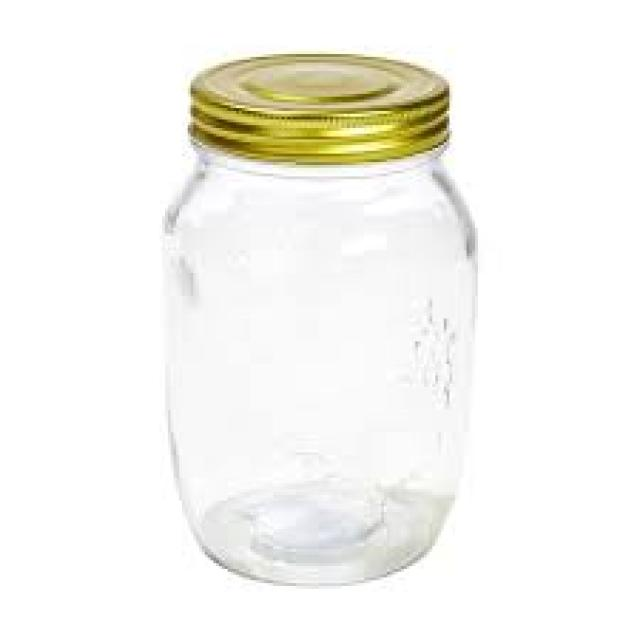glass: (156, 137, 478, 583)
metal: (185, 51, 446, 162)
